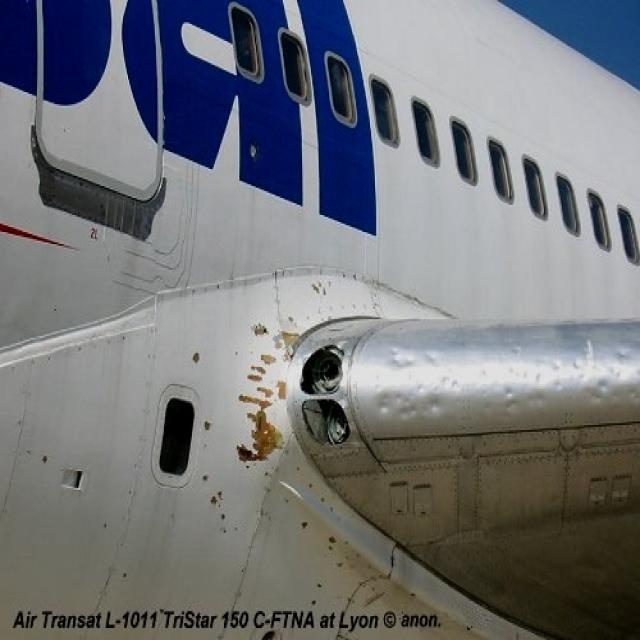dent: (377, 339, 640, 429)
